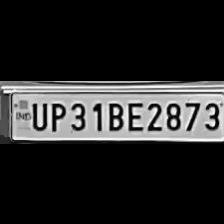1: (88, 99, 104, 130)
2: (144, 98, 162, 130)
3: (201, 98, 221, 130), (68, 98, 86, 130)
7: (182, 98, 200, 130)
8: (163, 99, 181, 130)
B: (104, 99, 124, 130)
E: (124, 98, 144, 132)
P: (47, 99, 65, 130)
U: (28, 98, 48, 130)
